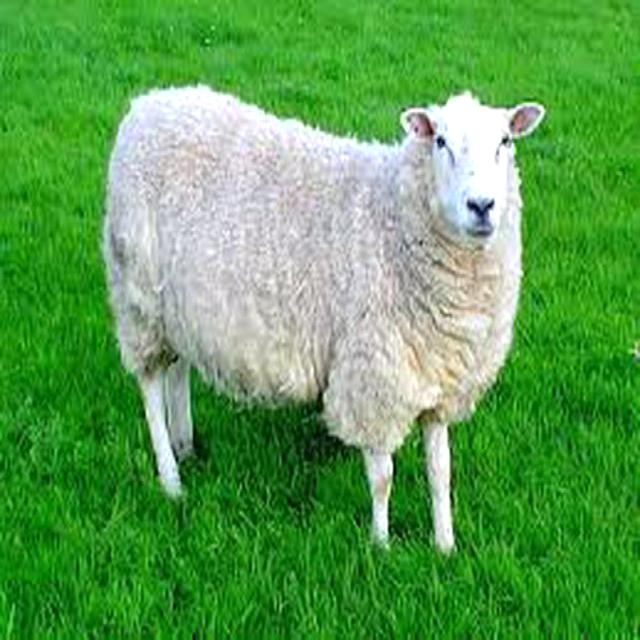sheep: (103, 85, 545, 554)
